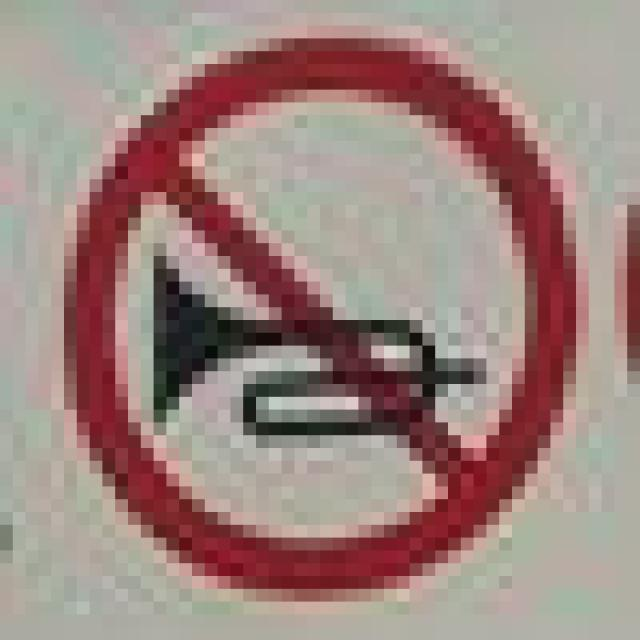HORN_PROHIBITED: (51, 26, 563, 588)
